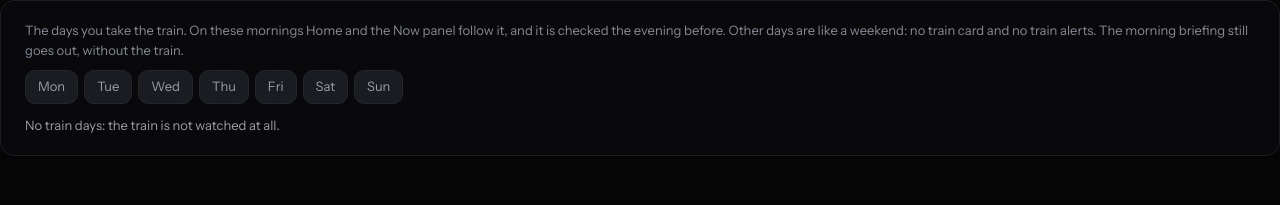
TrainSettings › says when no day is picked, and why a change did not save
Expected: the text "No train days: the train is not watched at all." is shown, left=25, top=116, right=280, bottom=132
What coordinates should you click on to do the following:
click the button "Mon"
I would click on:
 (52, 87)
Its box is left=25, top=70, right=78, bottom=104.
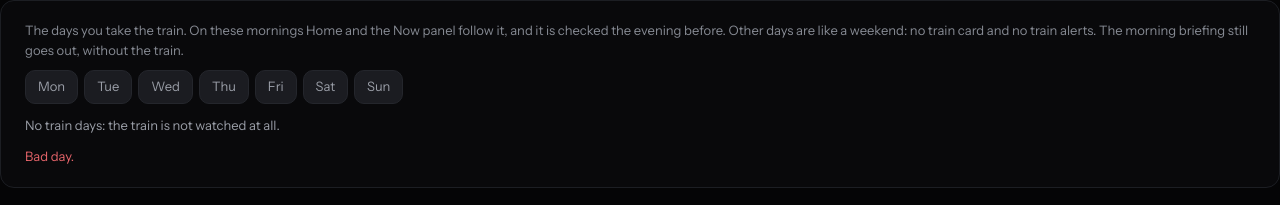
Expected: the text "Bad day." is shown, left=25, top=148, right=74, bottom=164
